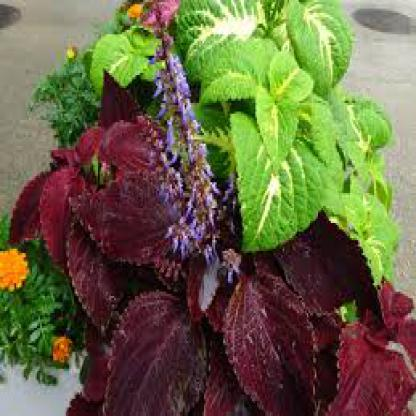Bunga Coleus: (75, 130, 317, 385), (175, 27, 379, 194)
